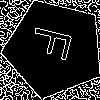F: (29, 24, 82, 65)
